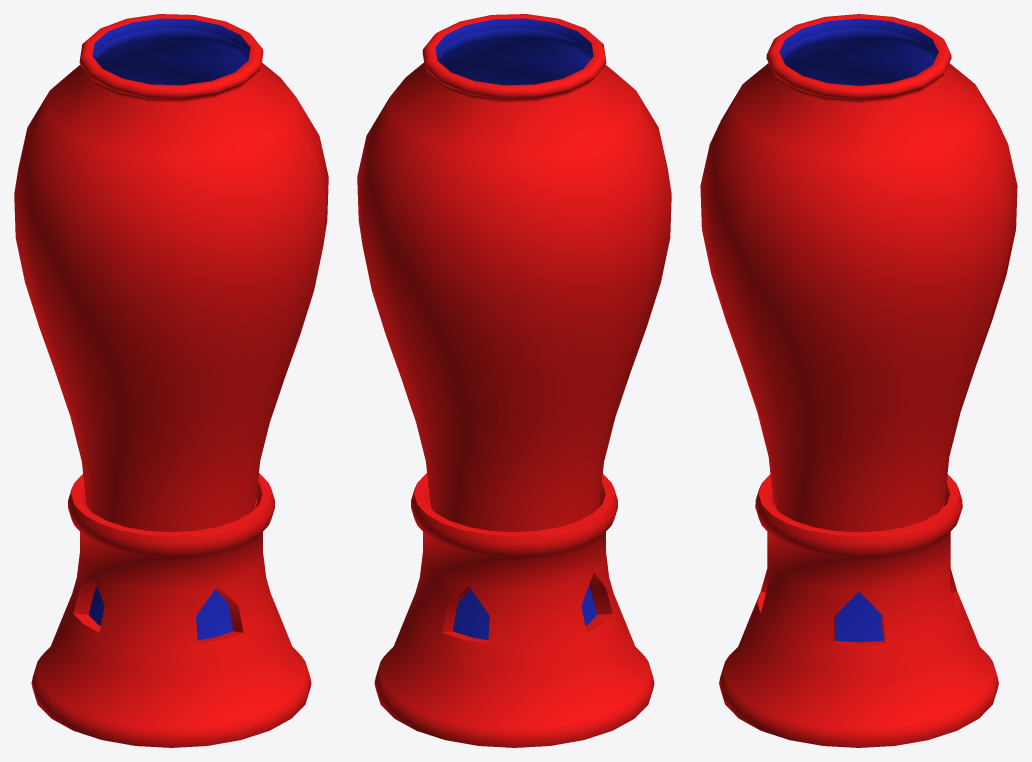
The model's file is jarWithStand.fbx.
The picture shows the model from 3 angles, left to right: view 1: azimuth 30°, elevation 25°; view 2: azimuth 150°, elevation 25°; view 3: azimuth 270°, elevation 25°; orthographic projection.
Visible parts, largest first — view 1: jar, jarStand; view 2: jar, jarStand; view 3: jar, jarStand.
Boxes of the visible parts, x1,y1,x2,y2 form: jar: [14, 14, 328, 532]; jarStand: [31, 473, 311, 747]; jar: [357, 14, 671, 532]; jarStand: [374, 473, 654, 747]; jar: [700, 14, 1017, 532]; jarStand: [719, 474, 998, 747].
Size of the model in its own units: 39.5 by 87.75 by 39.5.
